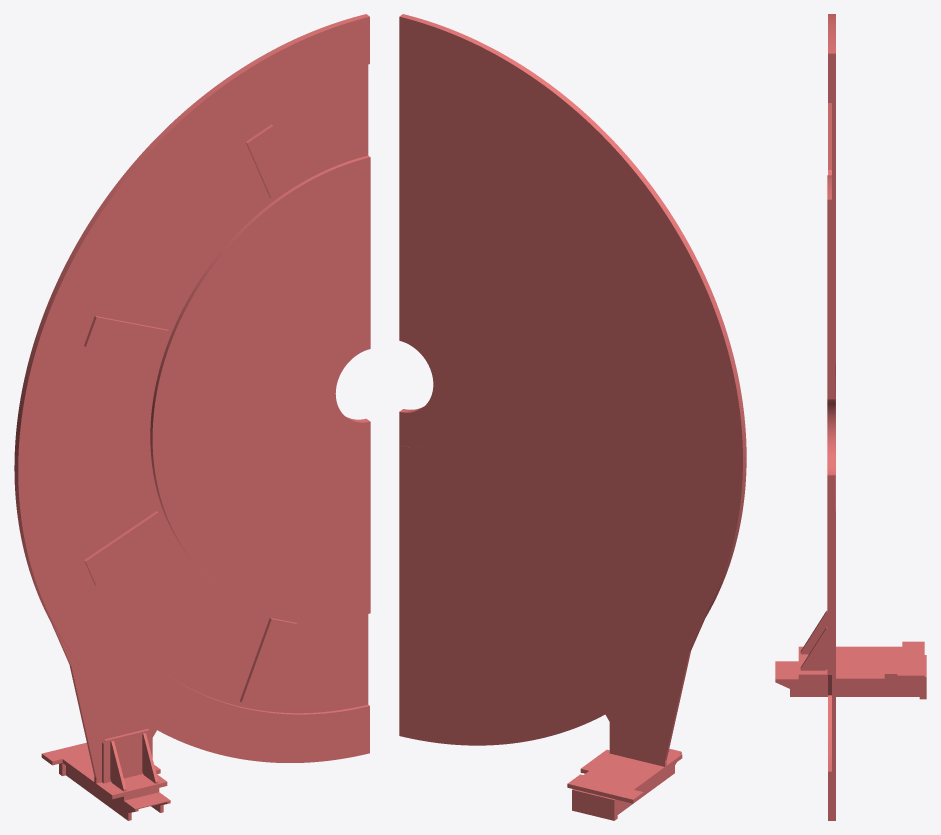
The model's file is Small-Wheel-NJD-SideC-cut2.glb.
3 renders of one model, left to right at view 1: azimuth 30°, elevation 25°; view 2: azimuth 150°, elevation 25°; view 3: azimuth 270°, elevation 25°, orthographic. The views are drawn at different scales.
Visible parts, largest first — view 1: null; view 2: null; view 3: null.
Part boxes in pixels (x1=…): null: x1=14, y1=14, x2=370, y2=820; null: x1=399, y1=14, x2=746, y2=820; null: x1=775, y1=14, x2=926, y2=820.
Bounding box in the file's own units: 4.36 × 8.72 × 1.56.
